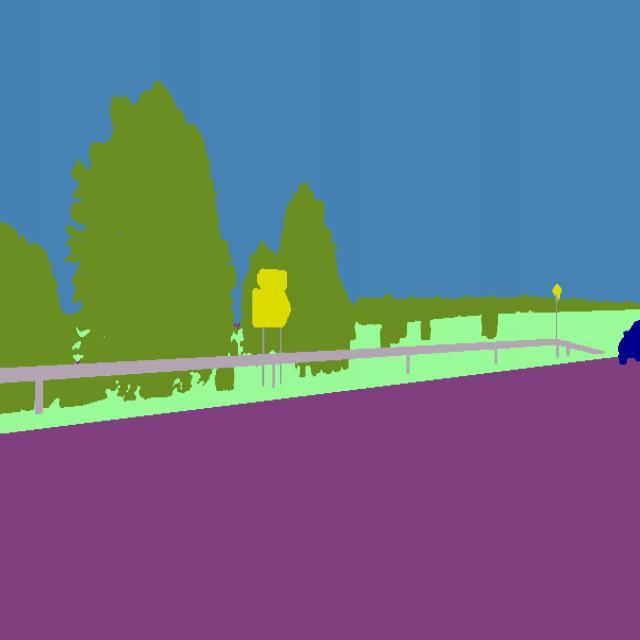safe: (611, 315, 640, 373)
